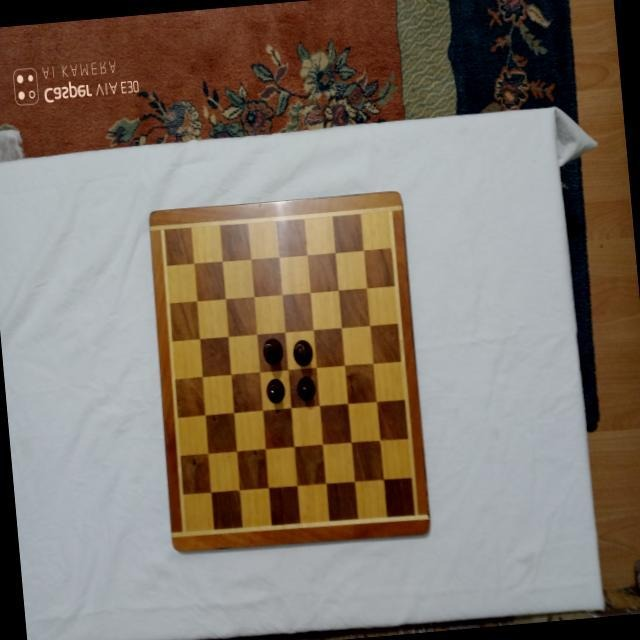black-bishop: (291, 337, 313, 367), (262, 335, 284, 365)
black-pawn: (295, 374, 316, 402), (266, 376, 286, 403)
